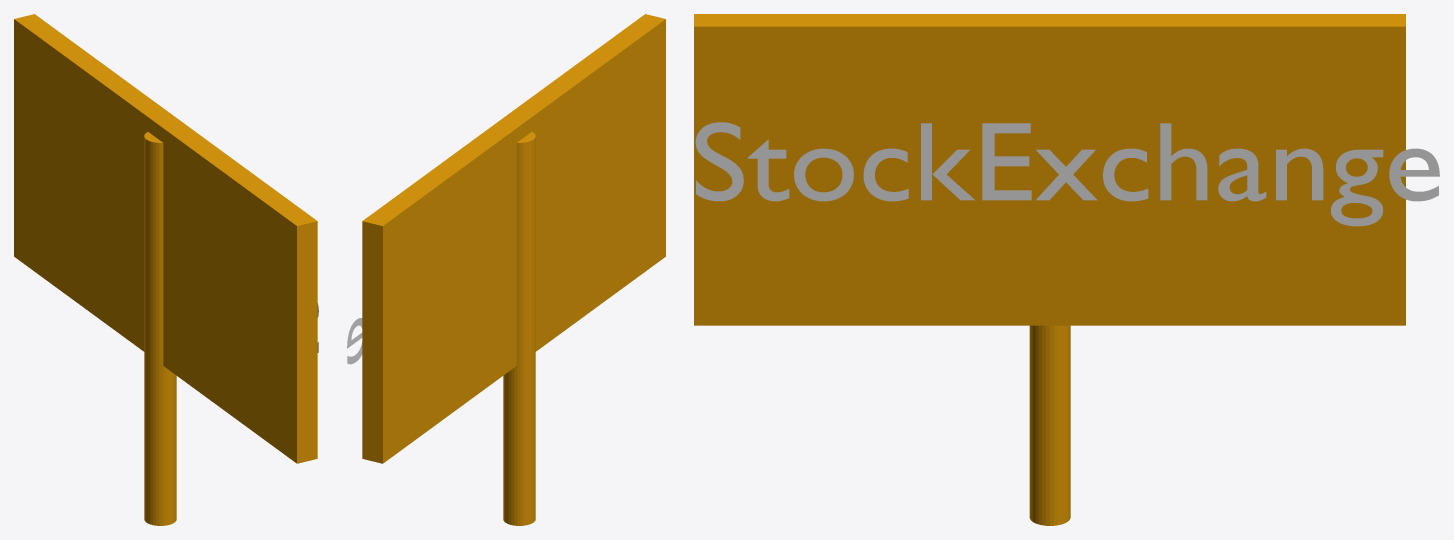
File: Kyltti10.fbx
3 renders of one model, left to right at view 1: azimuth 30°, elevation 25°; view 2: azimuth 150°, elevation 25°; view 3: azimuth 270°, elevation 25°, orthographic. The views are drawn at different scales.
Parts seen in each view (by area): view 1: Kyltti10, Cylinder.009; view 2: Kyltti10, Cylinder.009, Text.011; view 3: Kyltti10, Text.011, Cylinder.009.
Boxes of the visible parts, box(x1,y1,x2,y2) form: Kyltti10: box(14, 14, 317, 463); Cylinder.009: box(144, 132, 176, 525); Kyltti10: box(362, 14, 665, 463); Cylinder.009: box(503, 132, 535, 525); Text.011: box(347, 318, 362, 364); Kyltti10: box(694, 14, 1405, 325); Text.011: box(695, 122, 1439, 226); Cylinder.009: box(1029, 325, 1070, 525).
Bounding box in the file's own units: 36.68 × 442 × 597.
